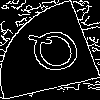Q: (25, 25, 88, 84)
